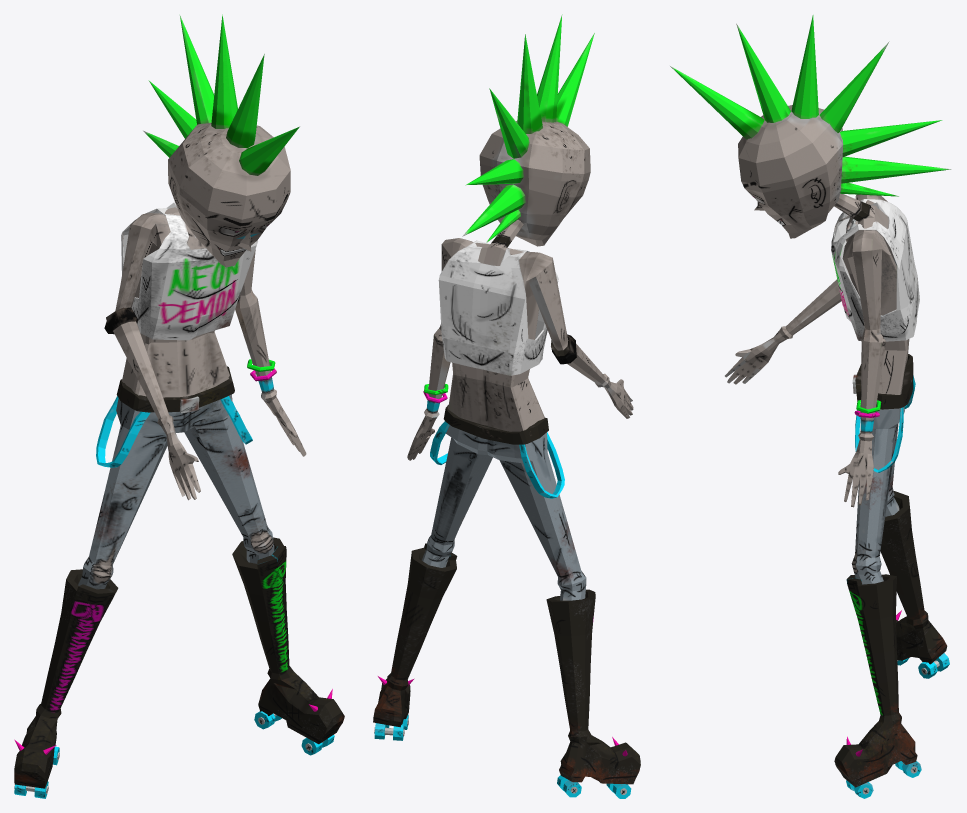
File: punkAnimation_000135.obj
3 views of the same model, side by side, from view 1: azimuth 30°, elevation 25°; view 2: azimuth 150°, elevation 25°; view 3: azimuth 270°, elevation 25° (orthographic). The views are drawn at different scales.
Visible parts, largest first — view 1: Cube.004_Cube.003; view 2: Cube.004_Cube.003; view 3: Cube.004_Cube.003.
Part boxes in pixels (x1=…): Cube.004_Cube.003: x1=14, y1=14, x2=344, y2=798; Cube.004_Cube.003: x1=373, y1=14, x2=640, y2=798; Cube.004_Cube.003: x1=670, y1=15, x2=951, y2=798.
Size of the model in its own units: 3.03 by 7.35 by 2.6.
